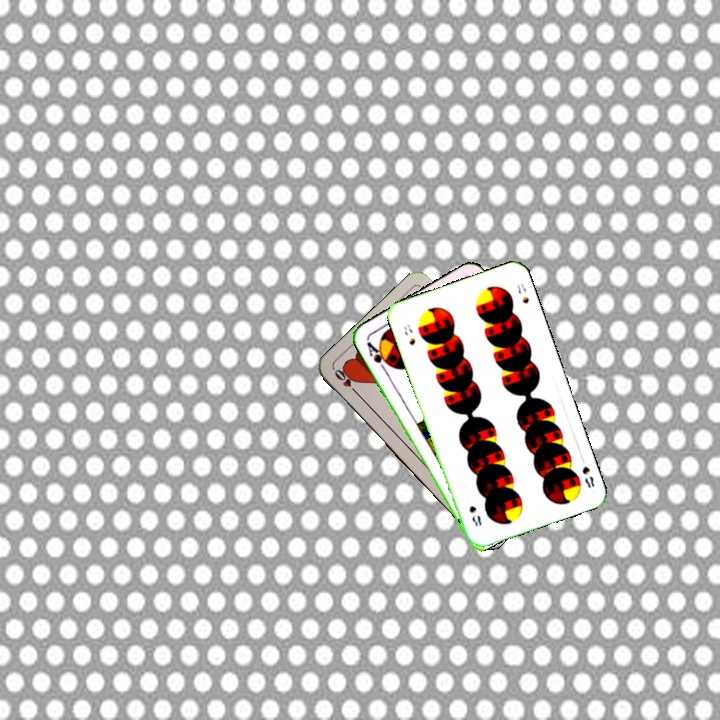HO: (330, 365, 362, 398)
S8: (578, 462, 597, 491), (400, 320, 418, 348)
SA: (362, 334, 392, 372)
